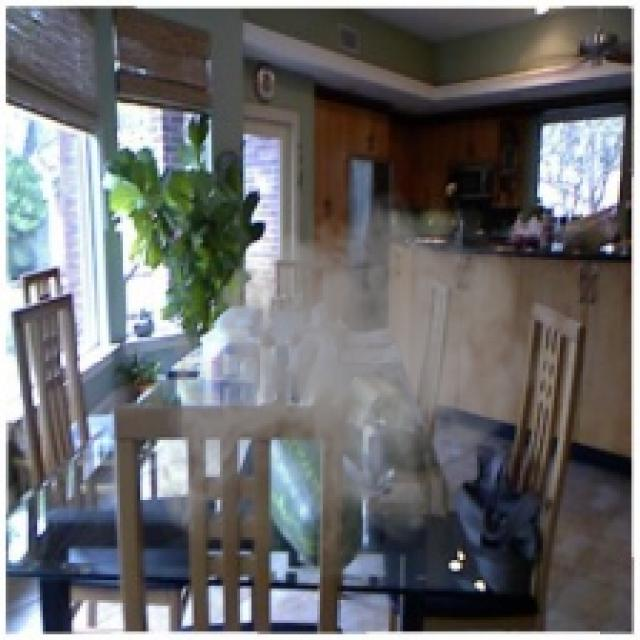smoke: (146, 177, 554, 603)
